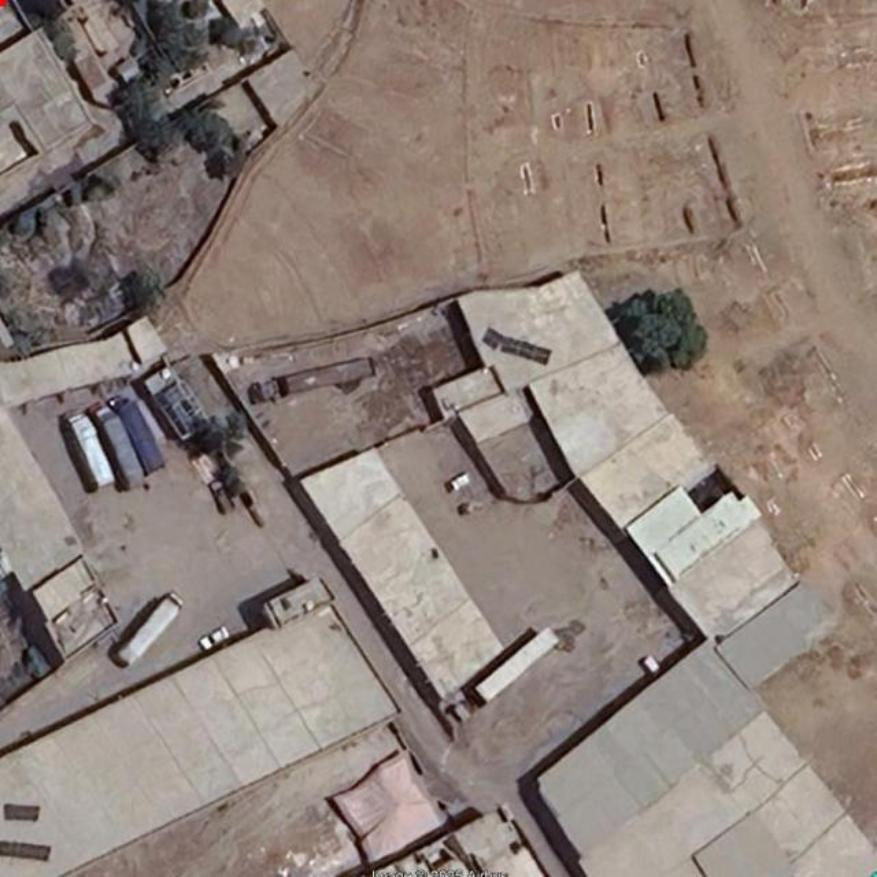Solarpanel: (501, 335, 553, 366), (1, 842, 50, 861), (5, 806, 41, 822), (481, 328, 504, 349)
